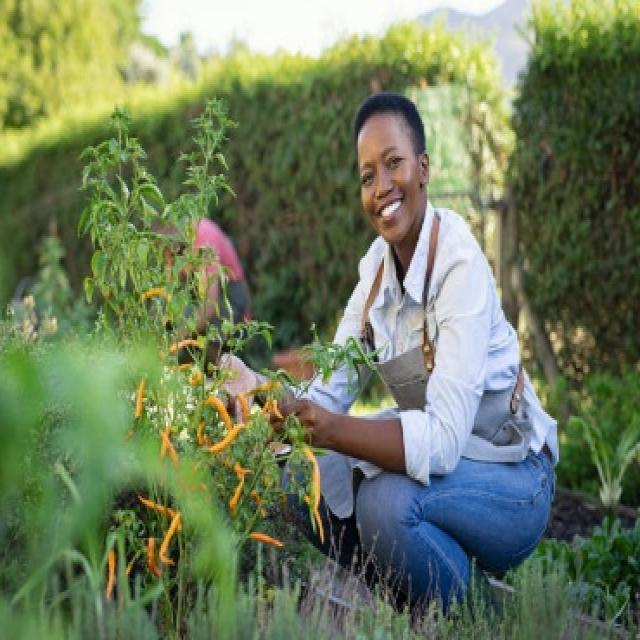adult: (287, 86, 558, 604)
